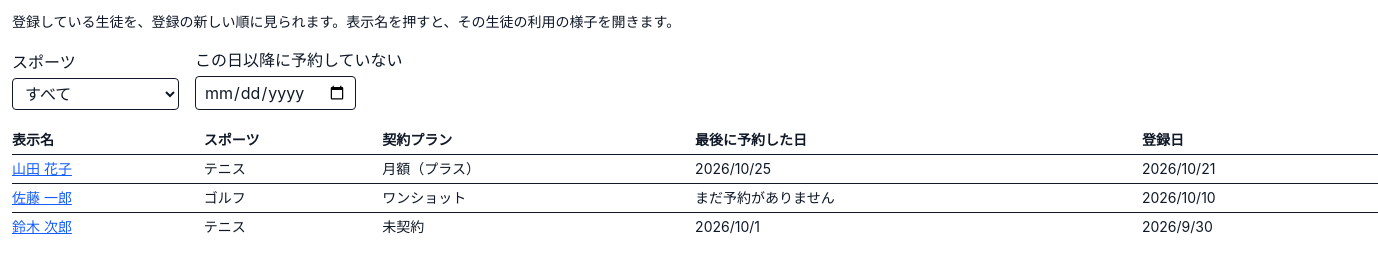
Test case: 本部の生徒 › 絞り込んで 0 件なら「条件に合う生徒はいません」と出し、表は出さない
Expected: the table is shown, [12,126,1377,241]
Select "水泳" in the dropdown labelled "スポーツ": coordinates (96, 94) [12,78,179,110]
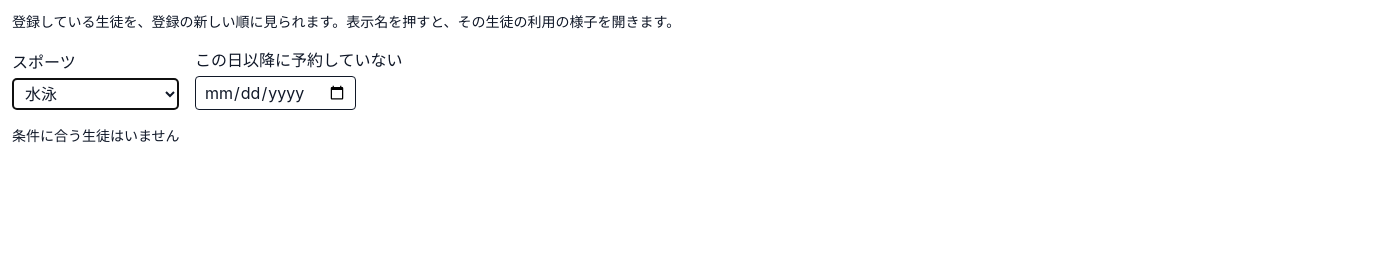
Expected: the text "条件に合う生徒はいません" is shown, [12,127,180,144]
Expected: the table is gone
